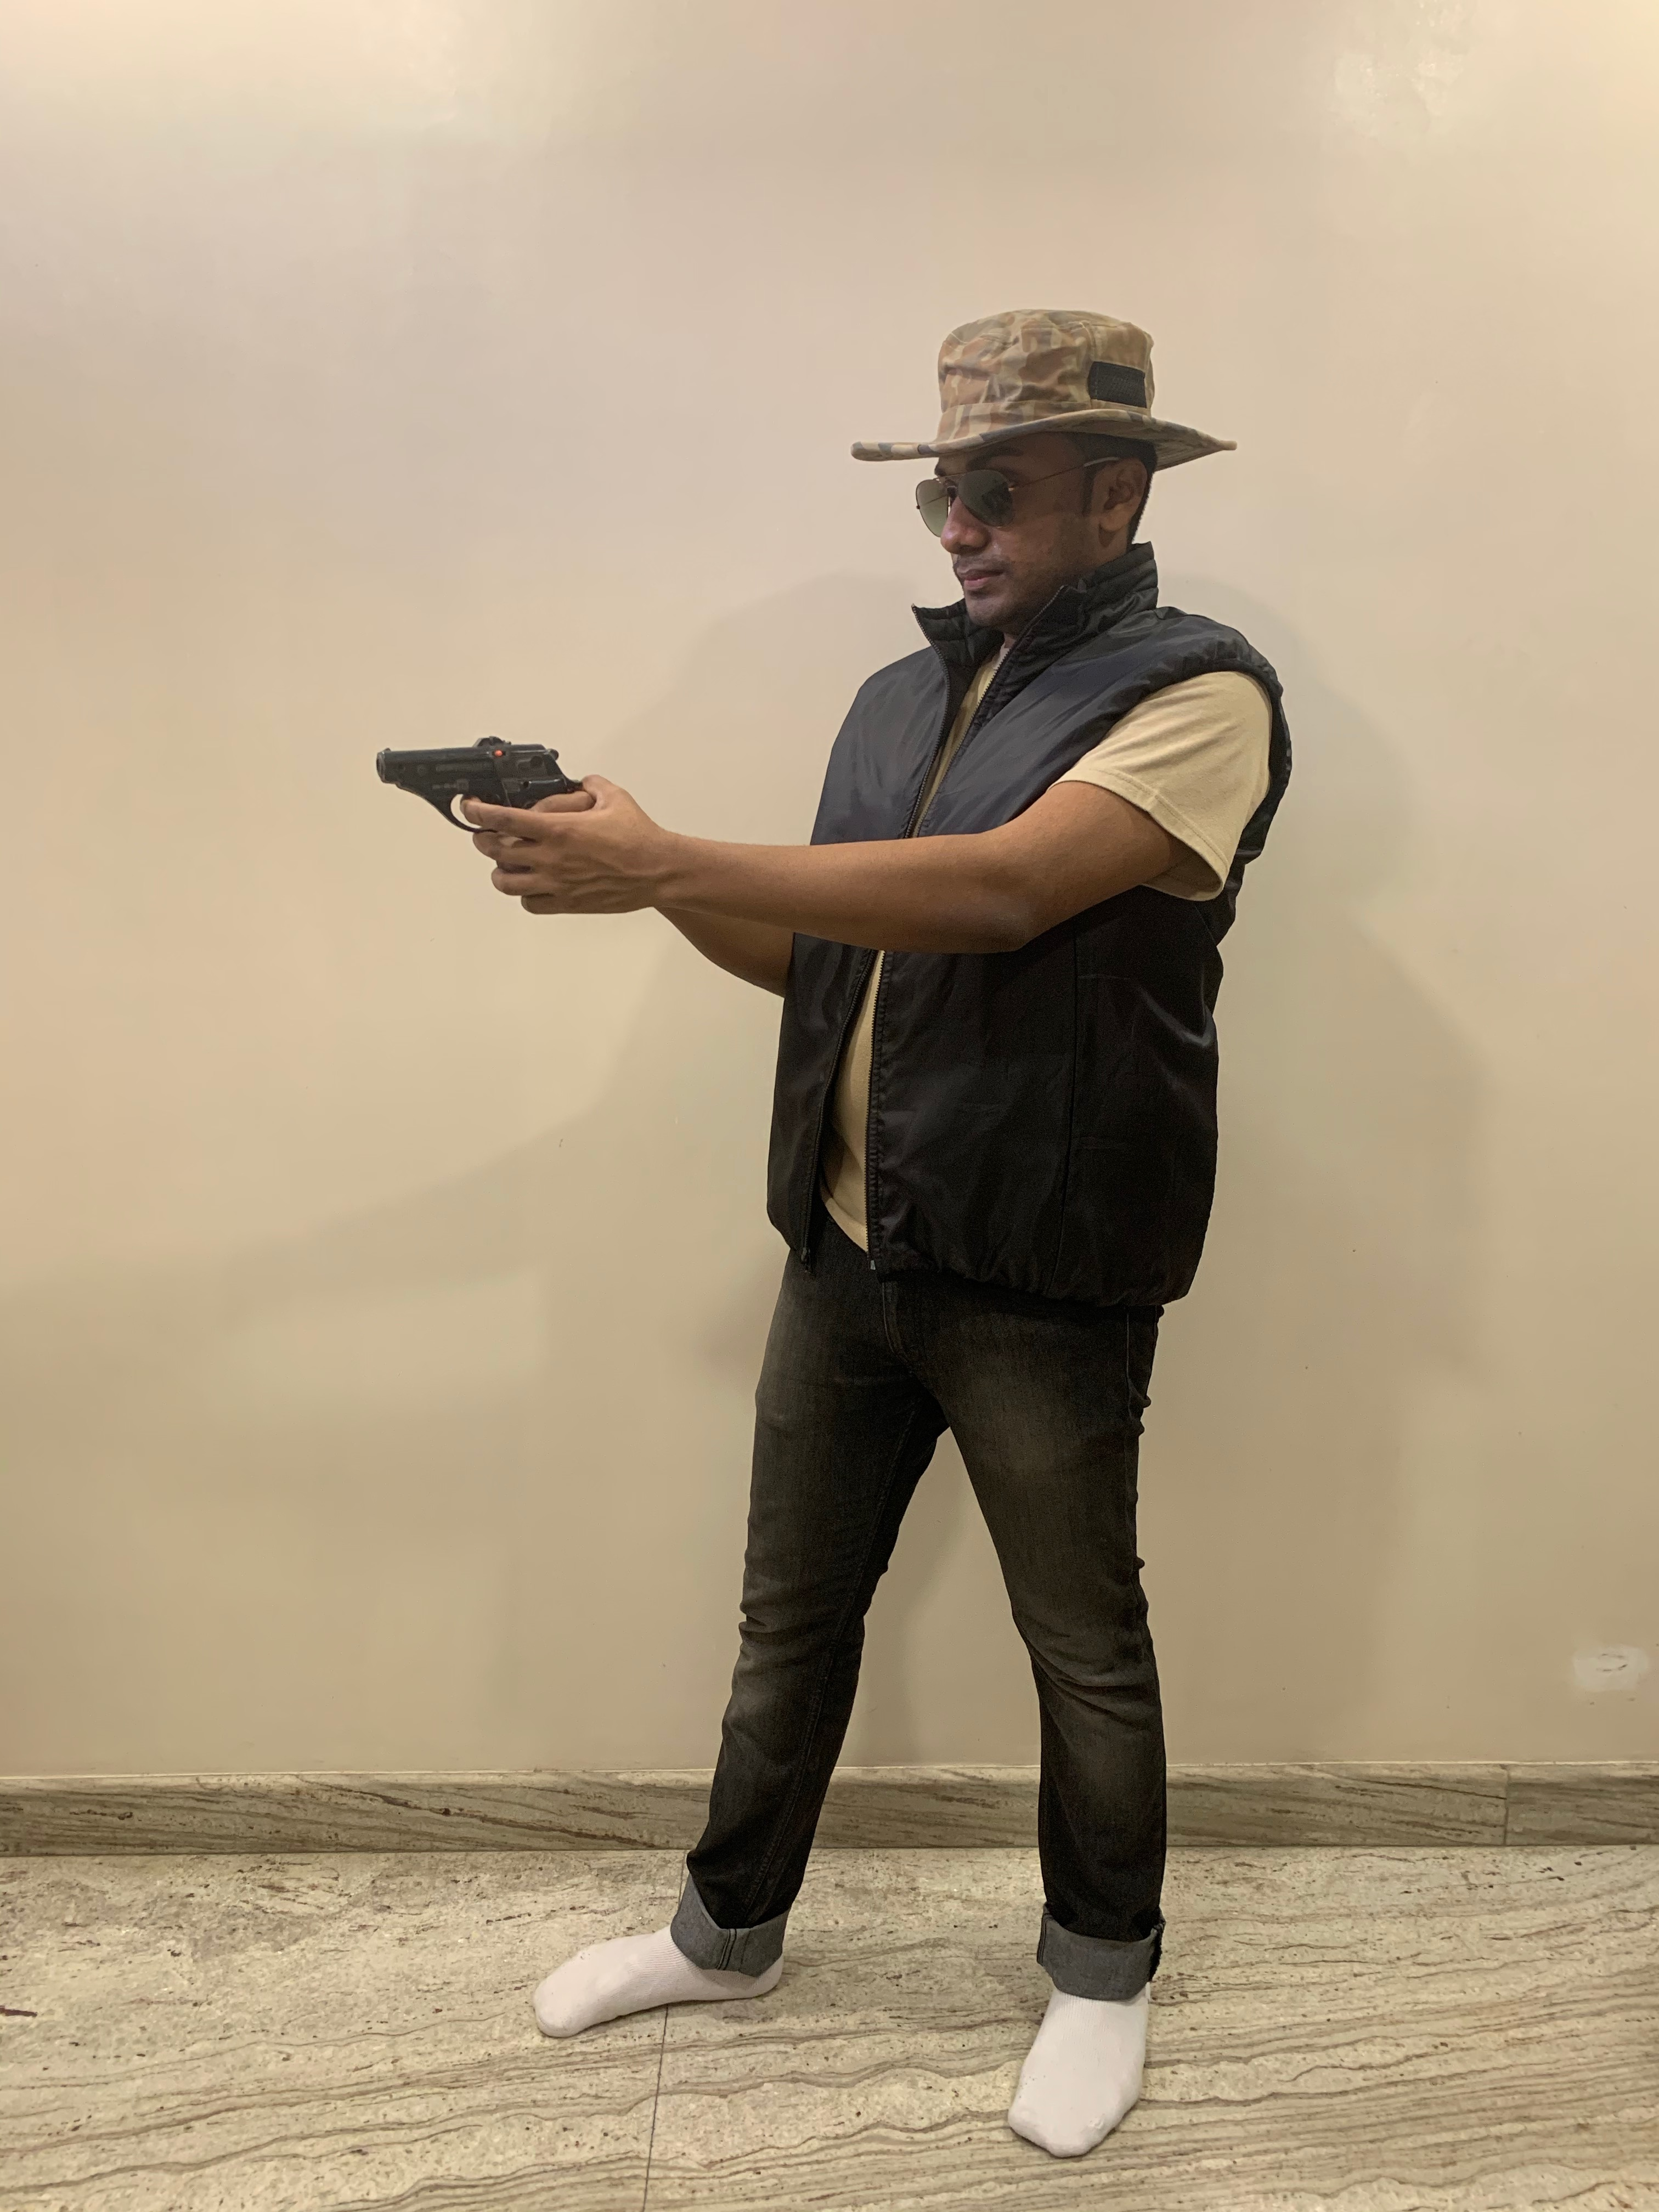gun: (375, 730, 594, 855)
